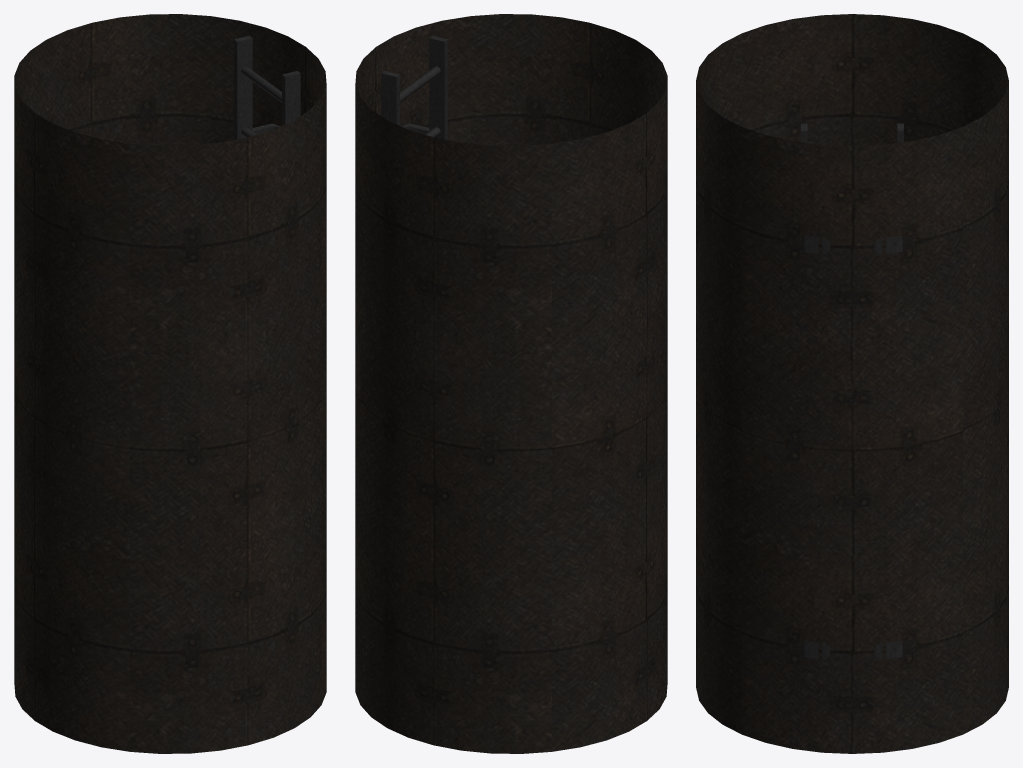
The model's file is manhole_shaft_middle_1.obj.
3 renders of one model, left to right at view 1: azimuth 30°, elevation 25°; view 2: azimuth 150°, elevation 25°; view 3: azimuth 270°, elevation 25°, orthographic.
Visible parts, largest first — view 1: manhole_shaft_middle_1, shaft_middle_ladder; view 2: manhole_shaft_middle_1, shaft_middle_ladder; view 3: manhole_shaft_middle_1, shaft_middle_ladder.
Part boxes in pixels (x1,y1,x2,y2): manhole_shaft_middle_1: (14, 14, 326, 753); shaft_middle_ladder: (234, 35, 300, 139); manhole_shaft_middle_1: (355, 14, 667, 753); shaft_middle_ladder: (381, 35, 447, 139); manhole_shaft_middle_1: (696, 14, 1008, 753); shaft_middle_ladder: (801, 123, 903, 659).
Size of the model in its own units: 1.4 by 3 by 1.4.
